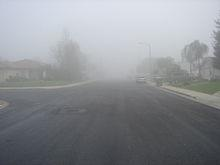car: (134, 75, 147, 84)
